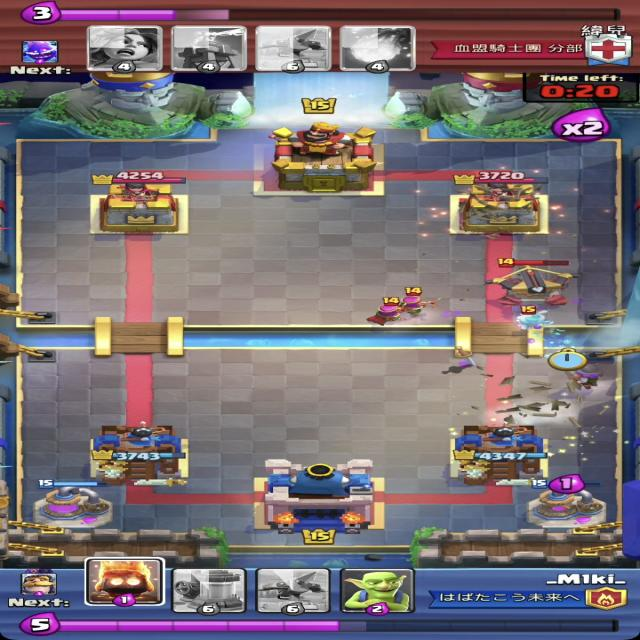Enemy-Archer: (368, 296, 411, 327), (399, 288, 438, 322)
Enemy-XBow: (482, 258, 582, 306)
Player-ElixirPump: (525, 478, 609, 530), (31, 479, 115, 530)
Player-Musketeer: (561, 353, 616, 390)
